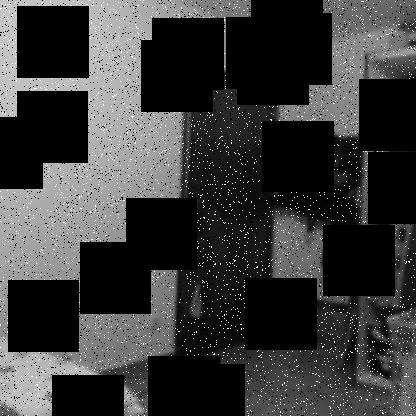Porte: (172, 58, 282, 367)
